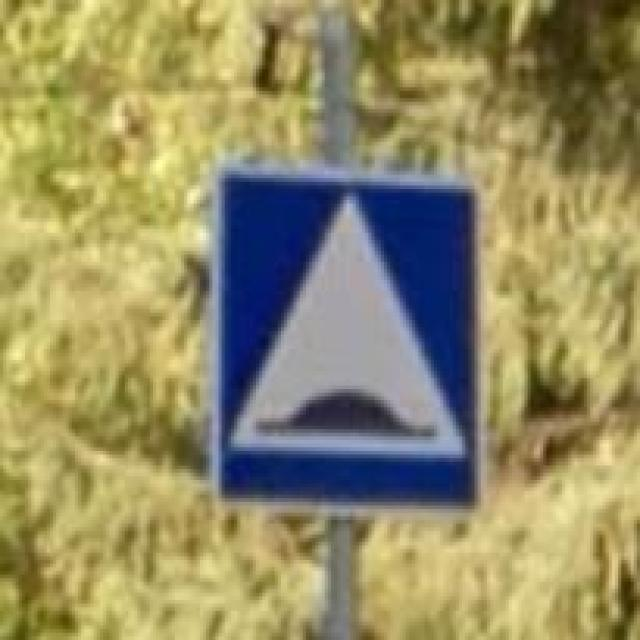traffic_sign: (209, 160, 490, 524)
